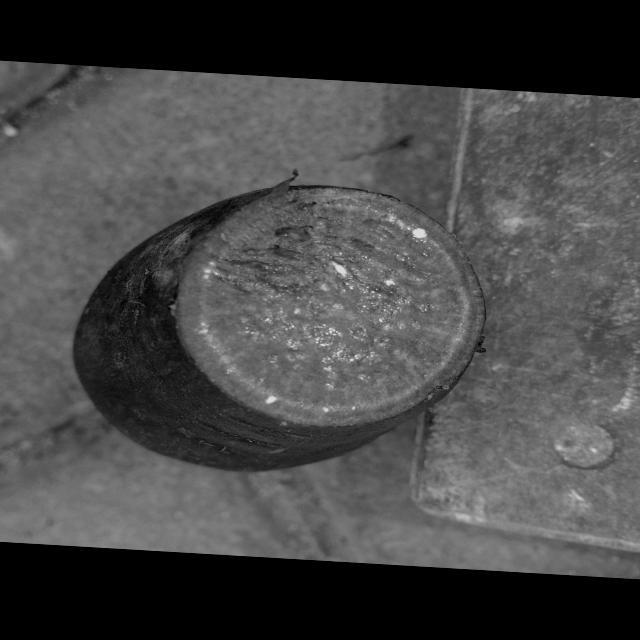Healthy Sweet Potato: (175, 182, 485, 428)
